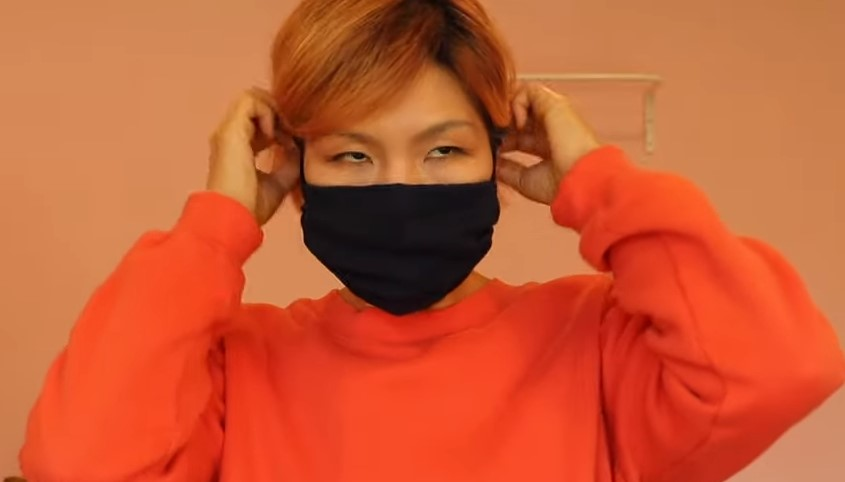face_with_mask: (269, 3, 522, 316)
